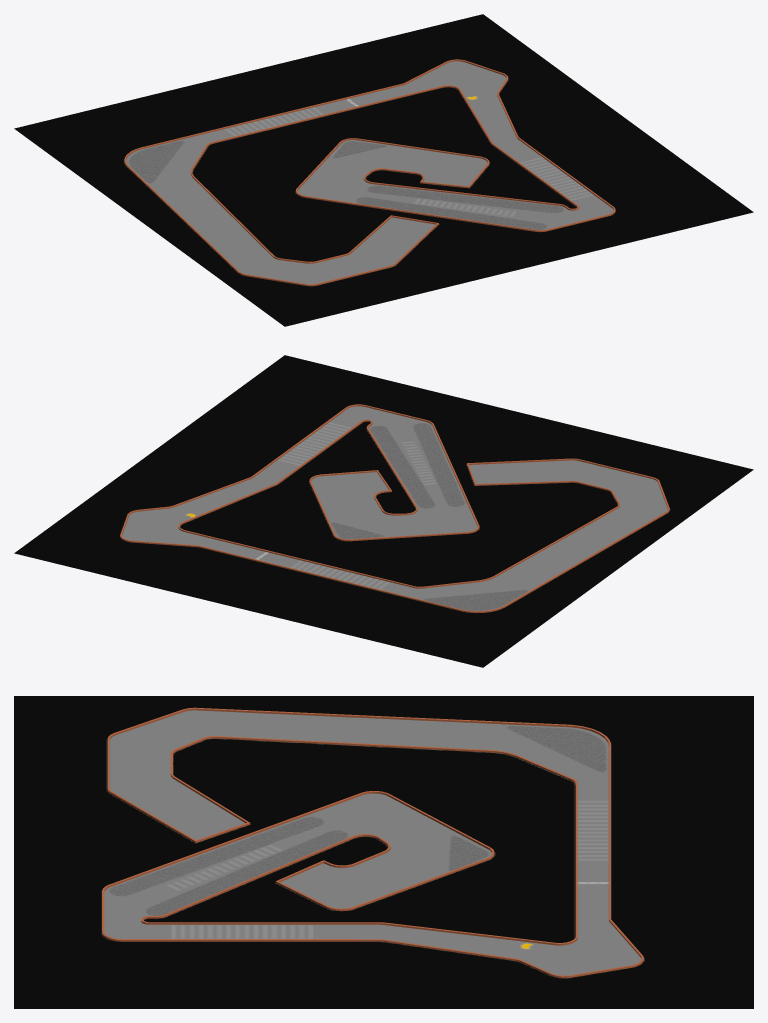
Rendered from track6.glb.
The picture shows the model from 3 angles, top to bottom: view 1: azimuth 30°, elevation 25°; view 2: azimuth 150°, elevation 25°; view 3: azimuth 270°, elevation 25°; orthographic projection. The views are drawn at different scales.
Visible parts, largest first — view 1: trackPlane, walls; view 2: trackPlane, walls; view 3: trackPlane, walls.
Part boxes in pixels (x1,y1,x2,y2): trackPlane: [14, 14, 753, 326]; walls: [124, 59, 615, 286]; trackPlane: [14, 355, 753, 667]; walls: [120, 404, 669, 612]; trackPlane: [14, 696, 753, 1008]; walls: [102, 707, 643, 978].
Size of what is drawn, in the model's own units: 40 by 0.1 by 40.
Materials: 2 (1 with a texture image).
